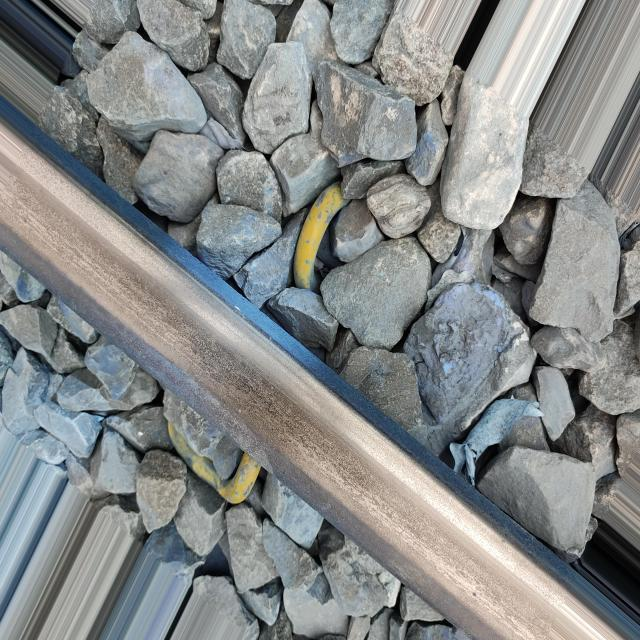Good Fasteners: (168, 420, 261, 504), (294, 183, 349, 289)
